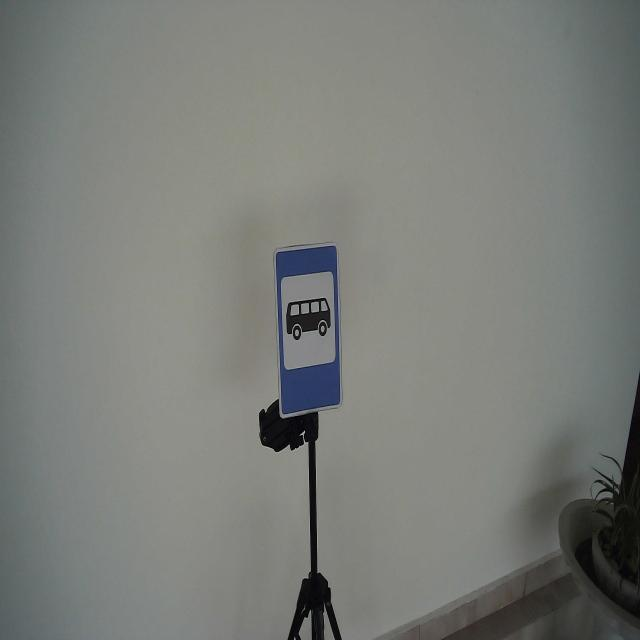bus_stop: (272, 240, 342, 422)
